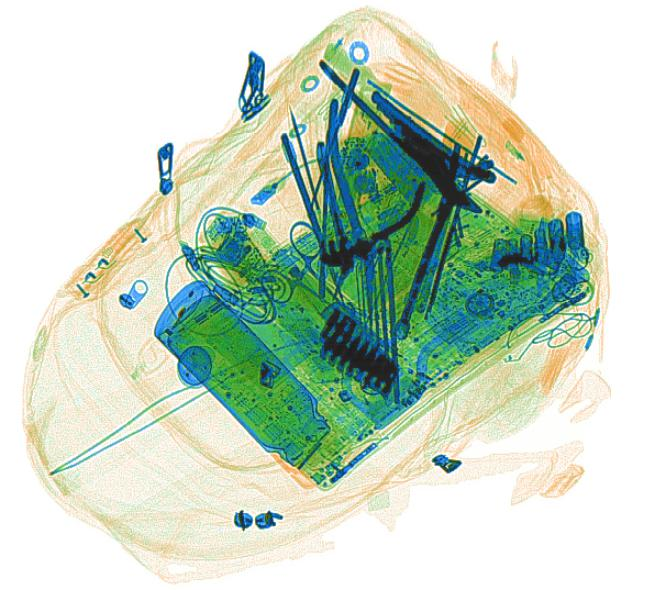scissors: (259, 219, 403, 367)
